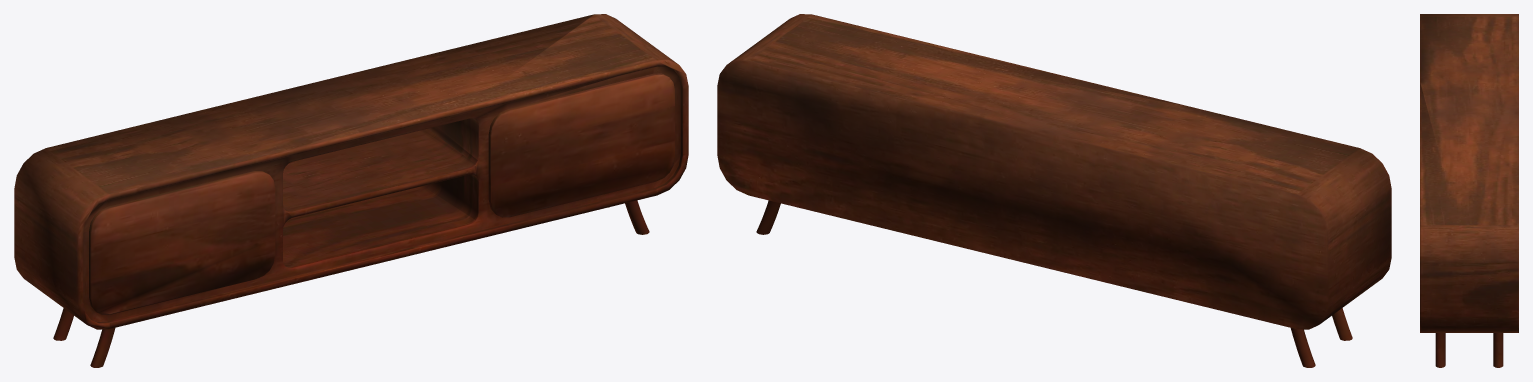
Rendered from tv_unit_cabinet_prstk.glb.
The picture shows the model from 3 angles, left to right: view 1: azimuth 30°, elevation 25°; view 2: azimuth 150°, elevation 25°; view 3: azimuth 270°, elevation 25°; orthographic projection. The views are drawn at different scales.
Parts seen in each view (by area): view 1: defaultMaterial; view 2: defaultMaterial; view 3: defaultMaterial.
Boxes of the visible parts, box(x1,y1,x2,y2) form: defaultMaterial: box(14, 14, 688, 367); defaultMaterial: box(717, 14, 1391, 367); defaultMaterial: box(1420, 14, 1518, 367).
Bounding box in the file's own units: 16.47 × 4.66 × 2.96.
Materials: 1 (1 with a texture image).
